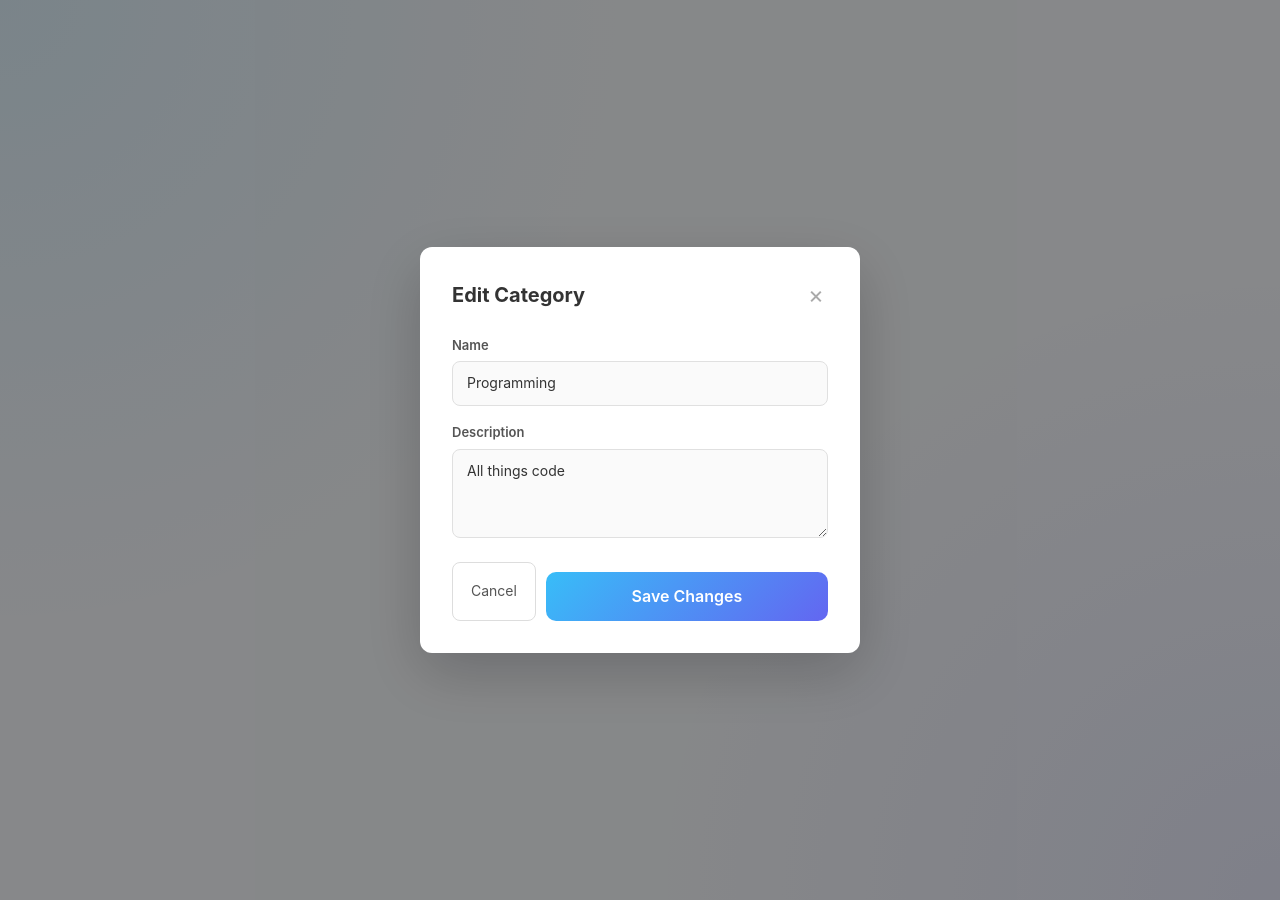
Test: EditCategoryModal › inline validation (on blur) › shows a name error after clearing the name and blurring
Step 1. Clear the field labelled "Name" → [640, 384], box [452, 361, 828, 406]
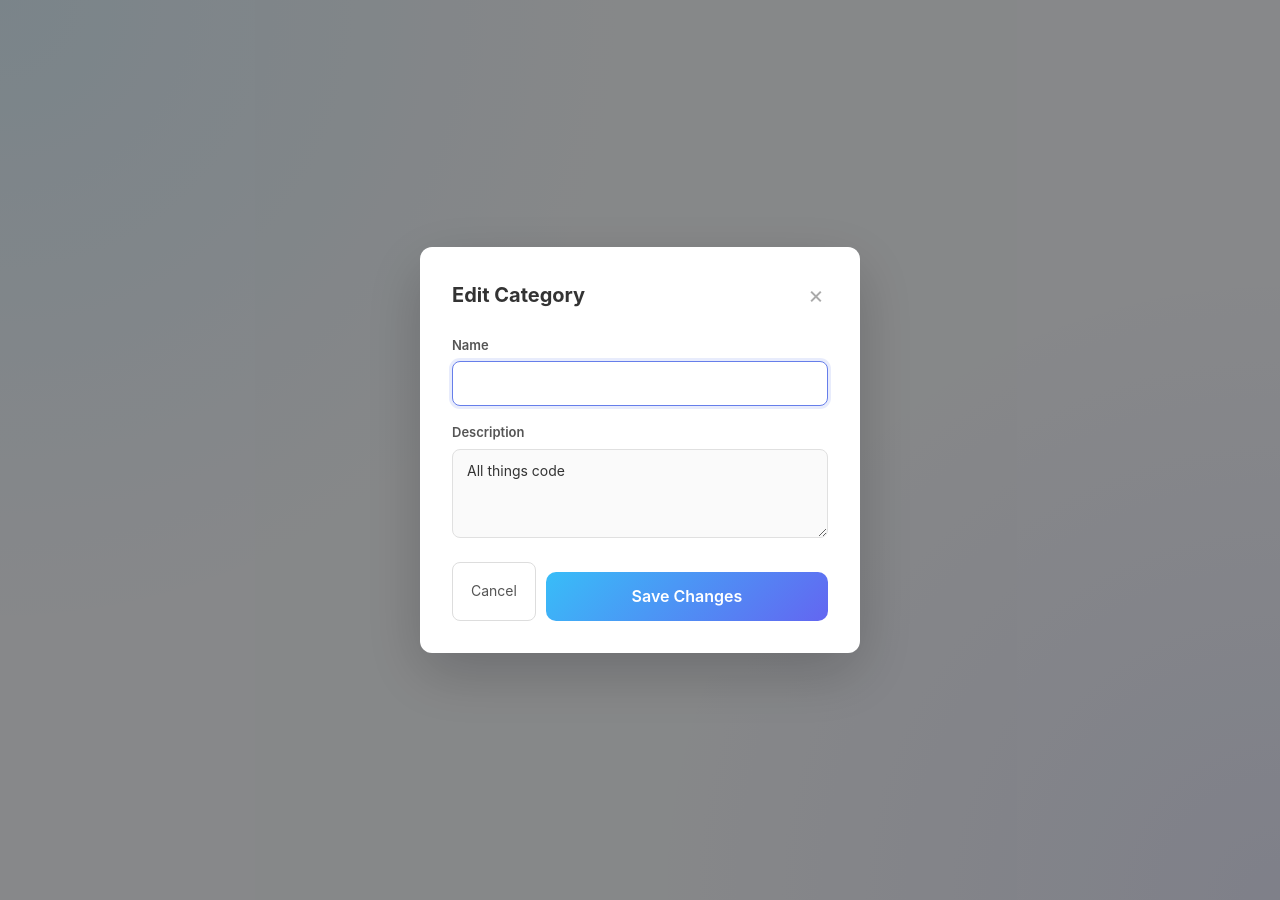
Step 2. Press Tab
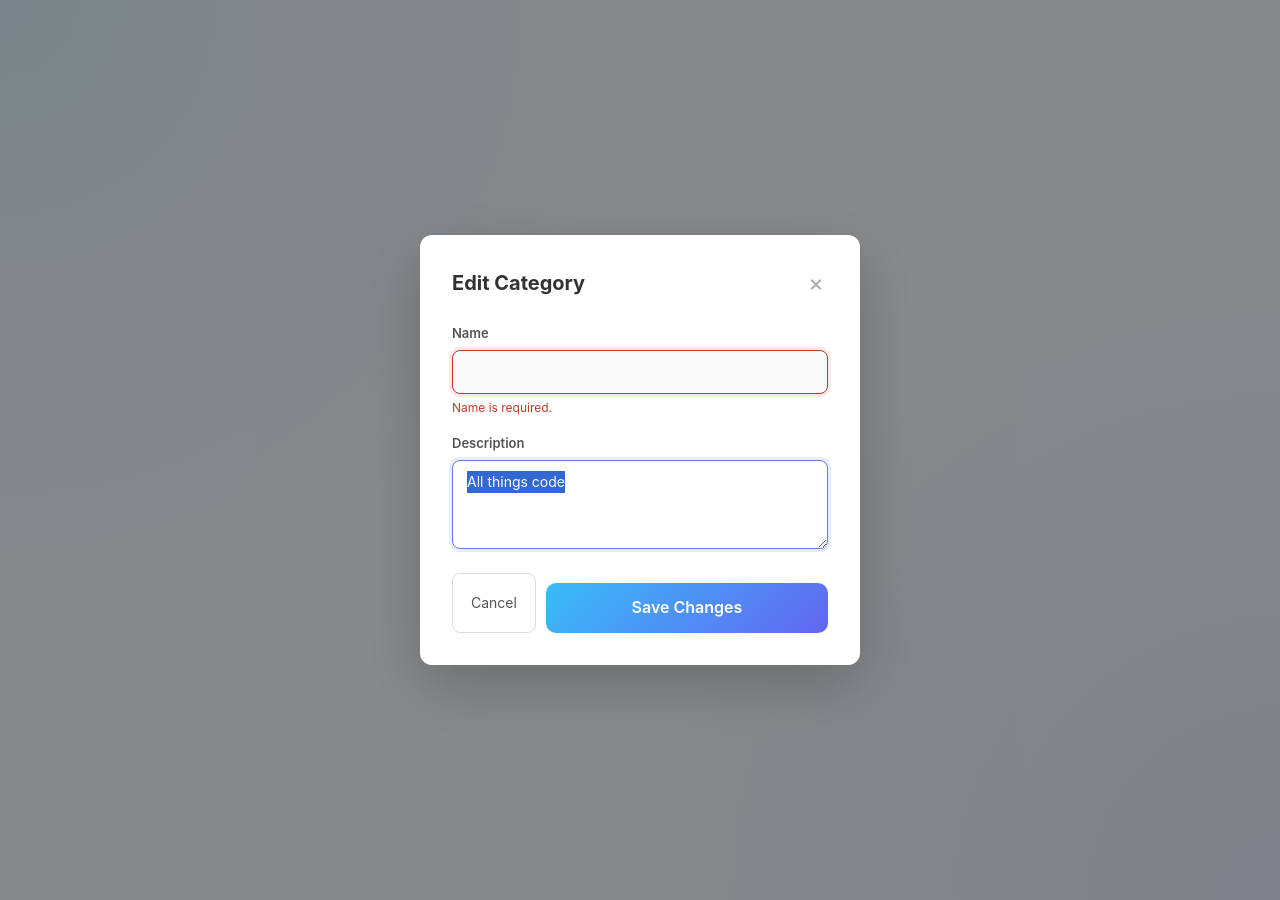
Expected: the text "Name is required." is shown, [452, 400, 552, 415]
